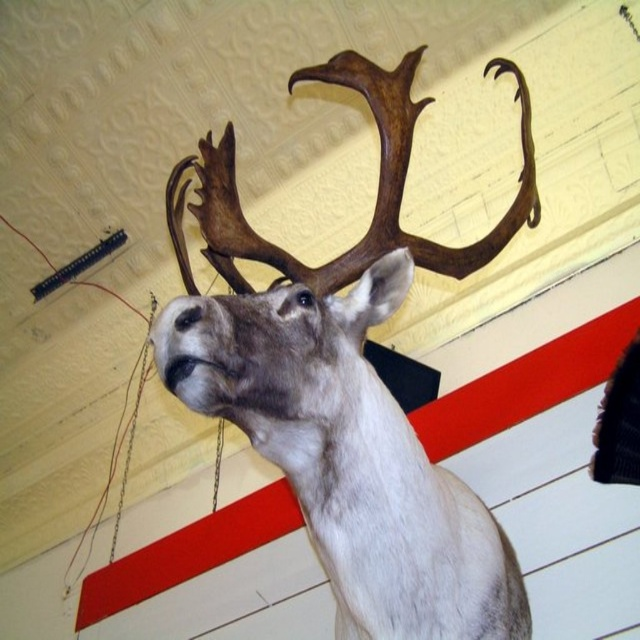Deer: (149, 44, 541, 640)
